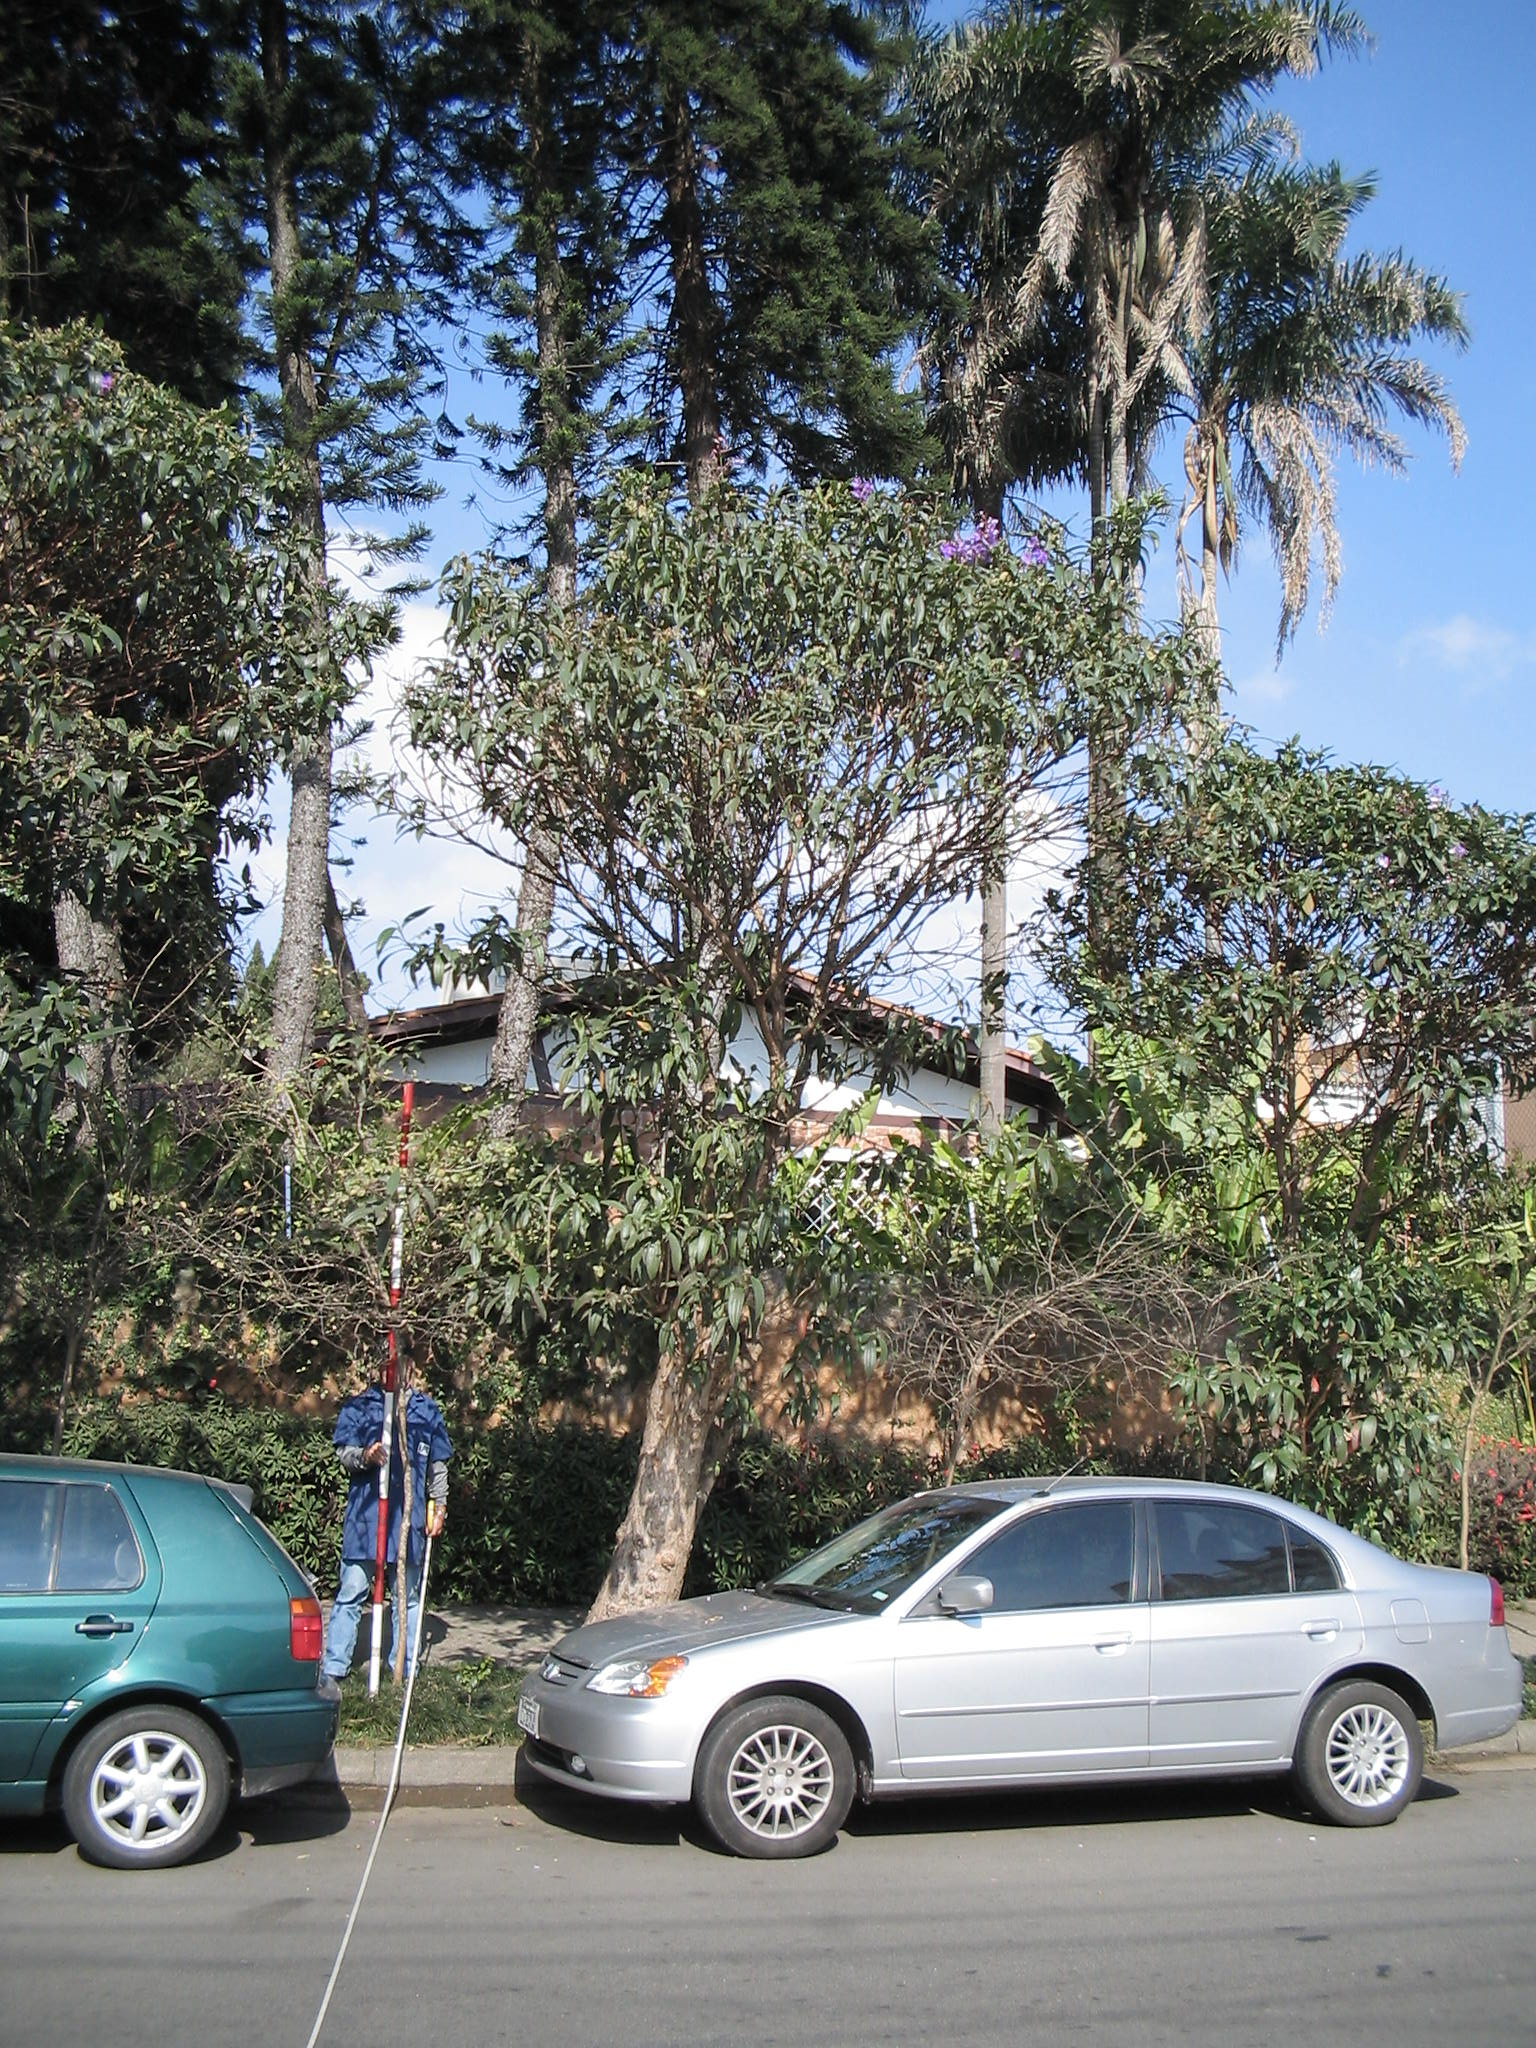crown: (379, 464, 1204, 1338)
stem: (549, 1361, 758, 1706)
stick: (353, 1090, 424, 1692)
tree: (366, 460, 1213, 1711)
